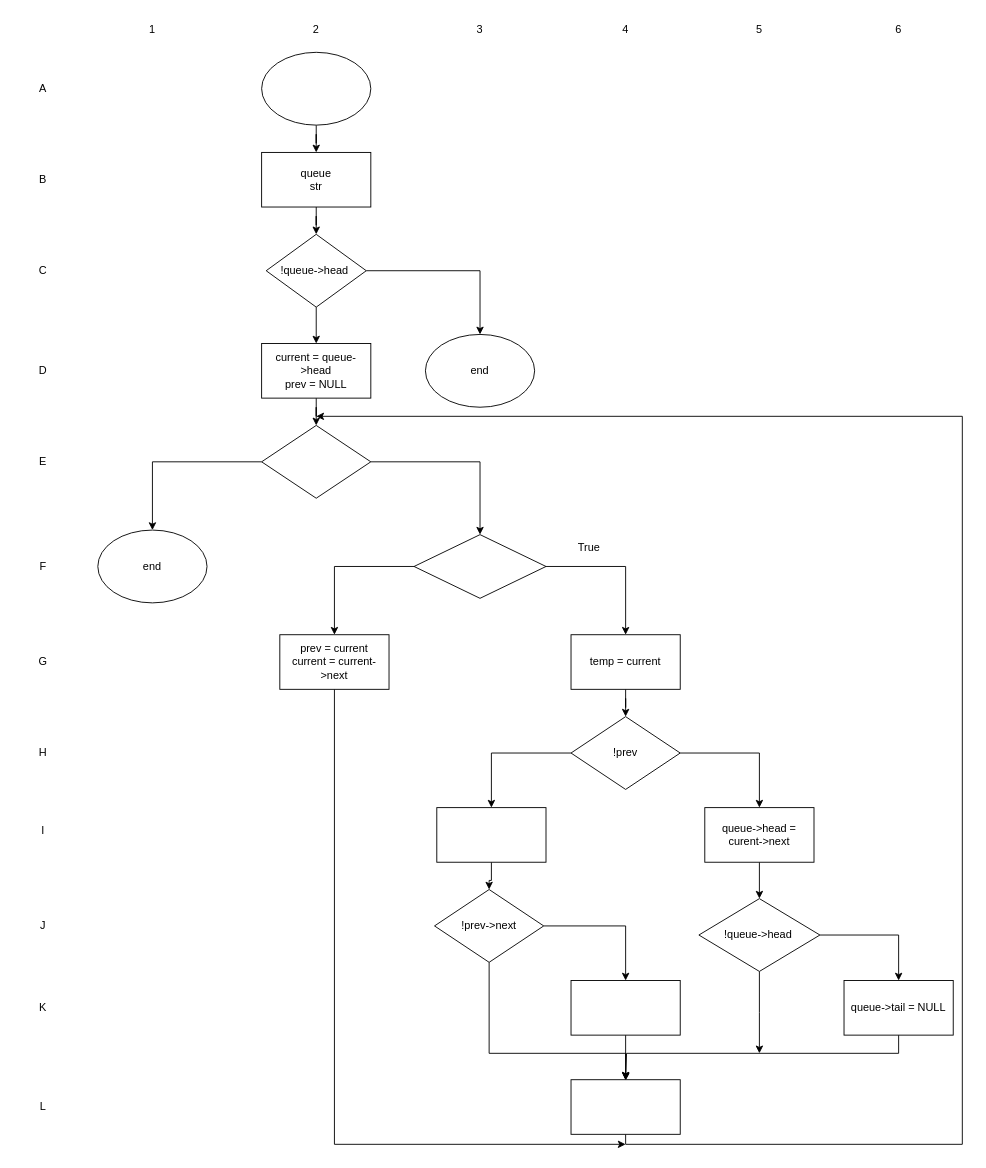
Some shapes in this 986 by 1168 pixel diagram are drawn without their labels. The centre of each missing label's shape, as x and y in pixels:
"!strcmp (current->c, str)" belongs at (479,566).
"current != NULL" belongs at (316,461).
"current = current->next free(temp->c) free(temp)" belongs at (625,1106).
"prev->next = current->next" belongs at (491,834).
"queue->tail = prev" belongs at (625,1007).
"queue_delete_ elements" belongs at (316,88).
